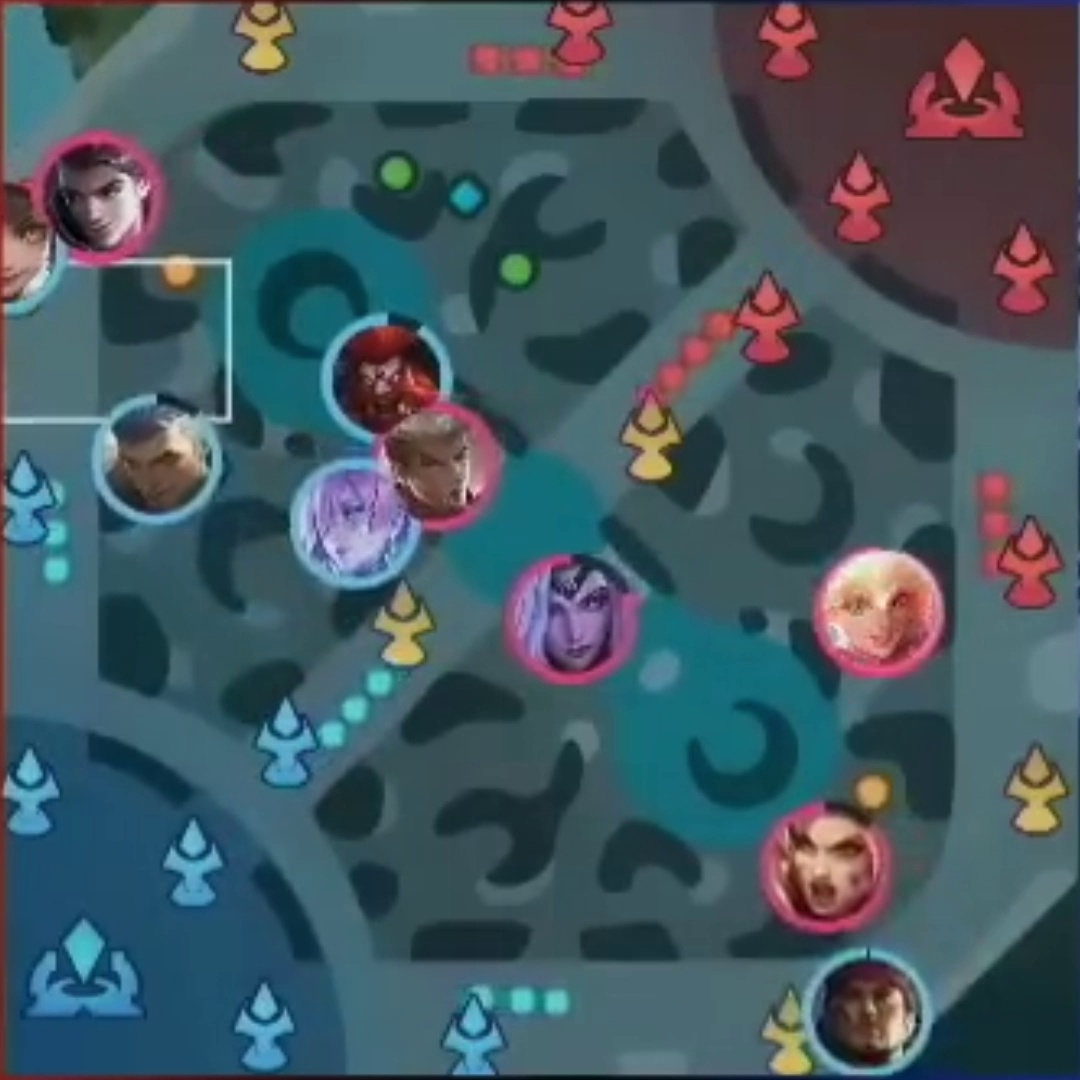Chou: (401, 415, 484, 529)
Claude: (51, 147, 151, 254)
Fanny: (827, 553, 936, 666)
Fredrinn: (106, 402, 209, 515)
Lapu-Lapu: (818, 954, 925, 1057)
Masha: (772, 810, 882, 934)
Minotaur: (335, 320, 440, 428)
Novaria: (301, 467, 414, 581)
Valentina: (512, 559, 632, 680)
Wanwan: (1, 180, 51, 300)
